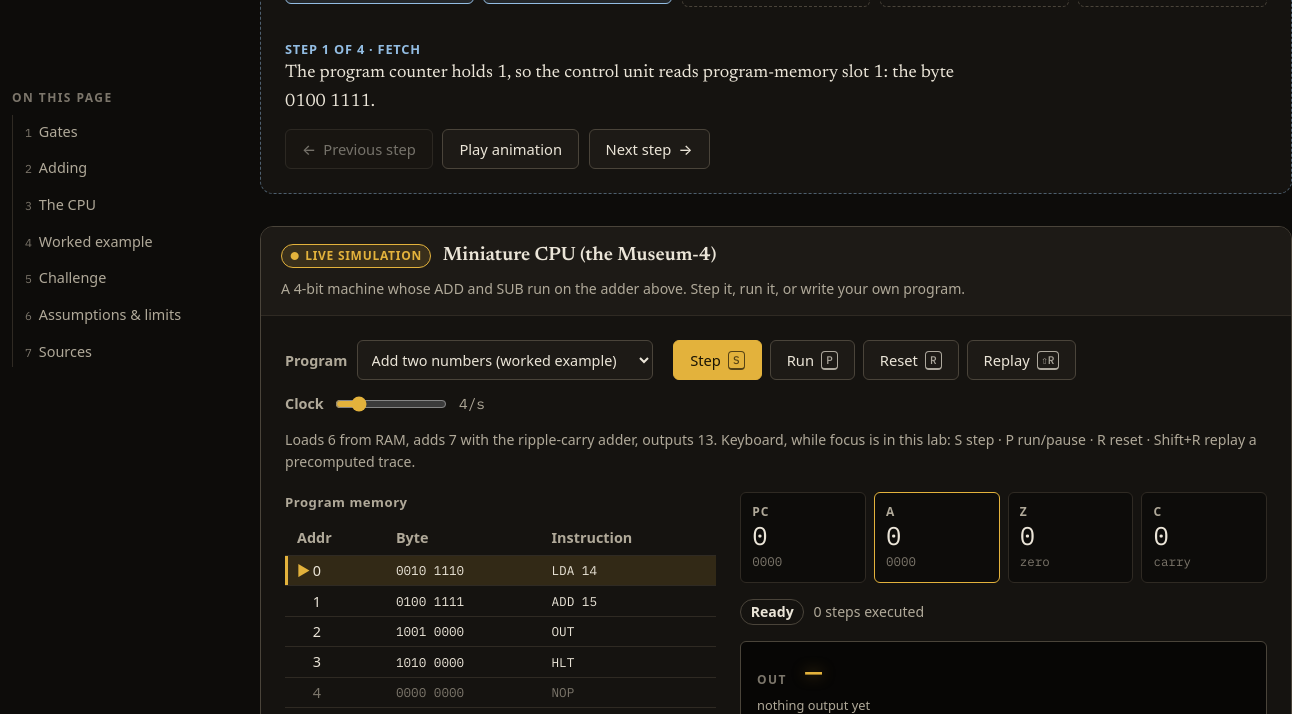
Test: Logic gates → binary adder → miniature CPU › CPU lab: step, reset and keyboard shortcuts
(page scrolled)
Expected: the text with test id "reg-pc" reads "0", [752,519,768,552]
Click the button "Step S". click: (717, 360)
box: [673,340,762,380]
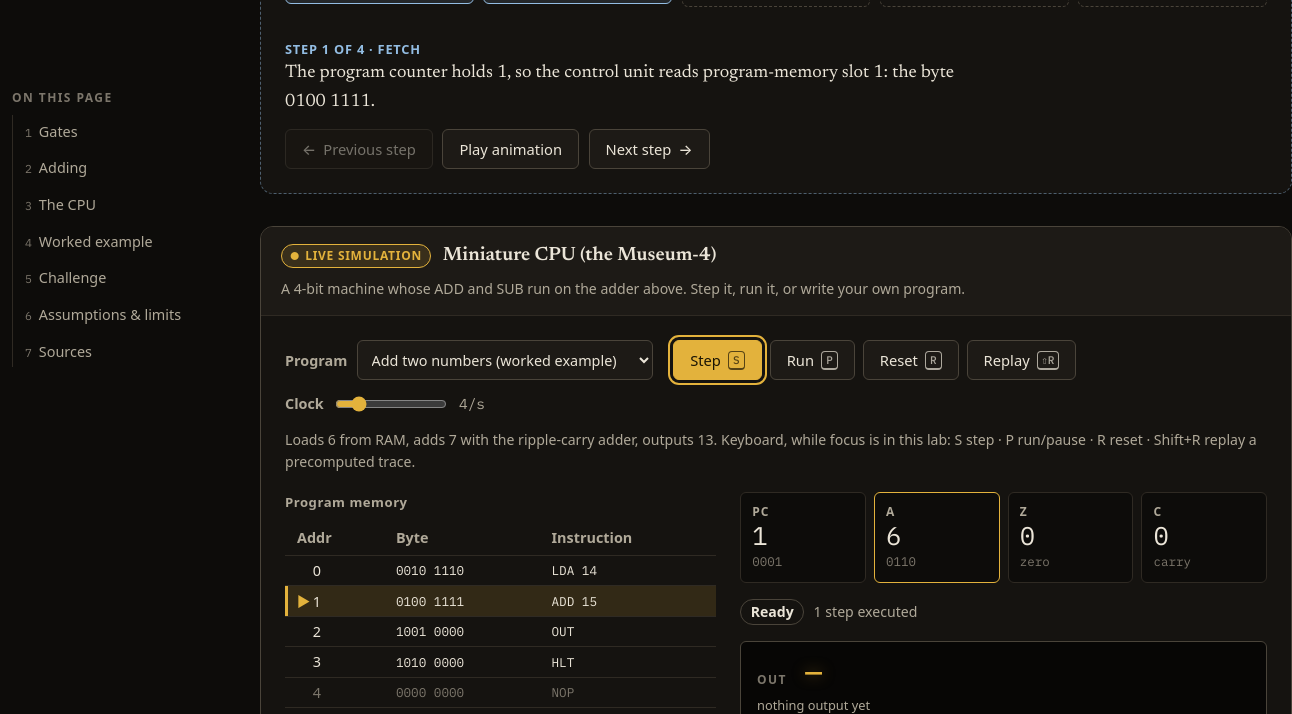
Expected: the text with test id "reg-pc" reads "1", [752,519,768,552]
Expected: the text with test id "reg-a" reads "6", [886,519,901,552]
Press s in the button "Step S", box [673,340,762,380]
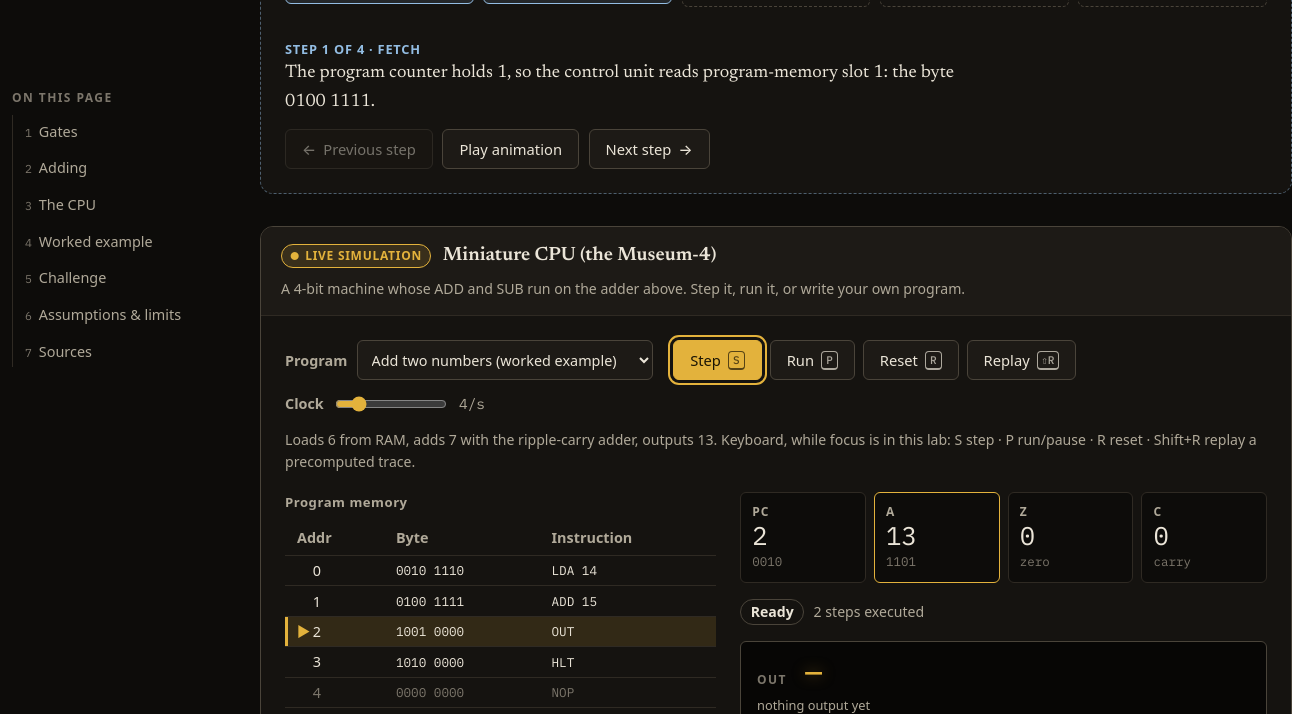
Expected: the text with test id "reg-pc" reads "2", [752,519,768,552]
Expected: the text with test id "reg-a" reads "13", [886,519,917,552]
Click the button "Reset R". click: (911, 360)
box: [863,340,959,380]
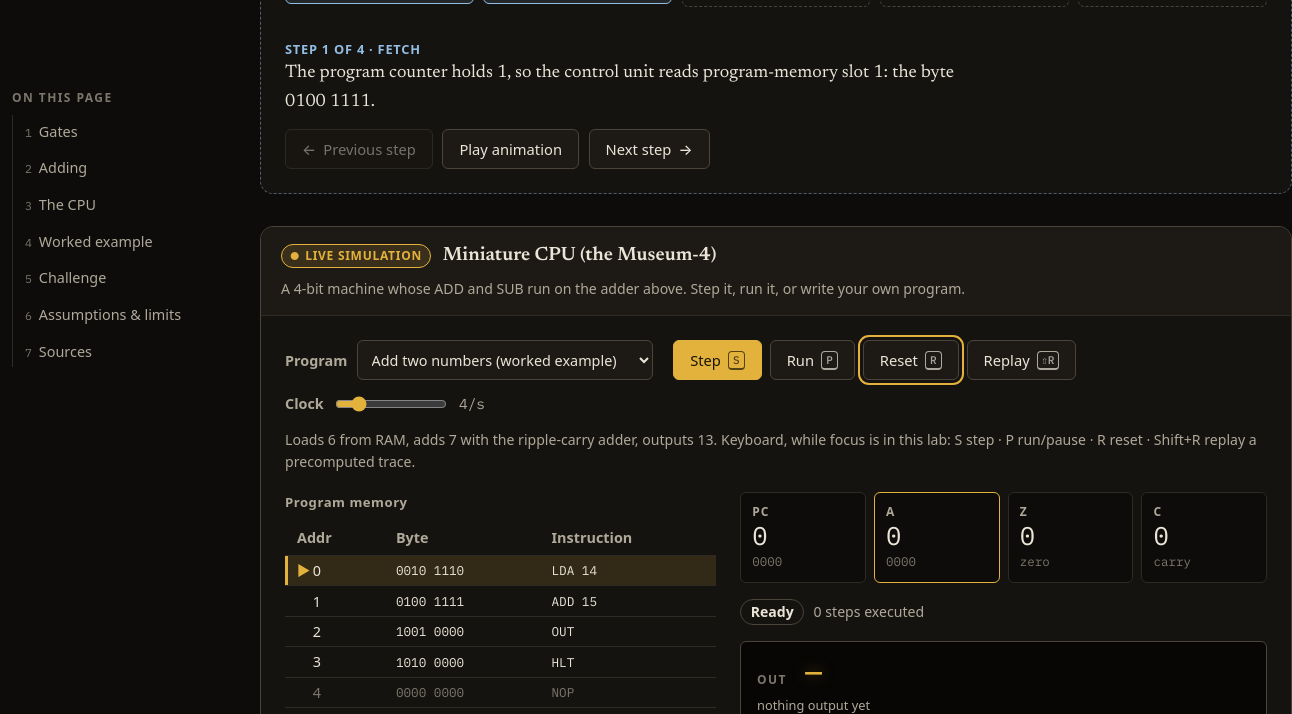
Expected: the button "Run P" is shown, [770,340,855,380]
Expected: the text with test id "reg-pc" reads "0", [752,519,768,552]
